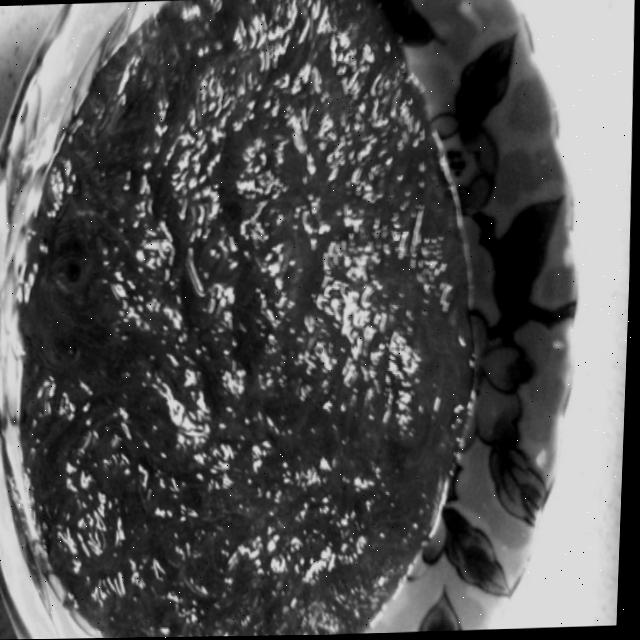蔬菜料理: (0, 0, 556, 640)
